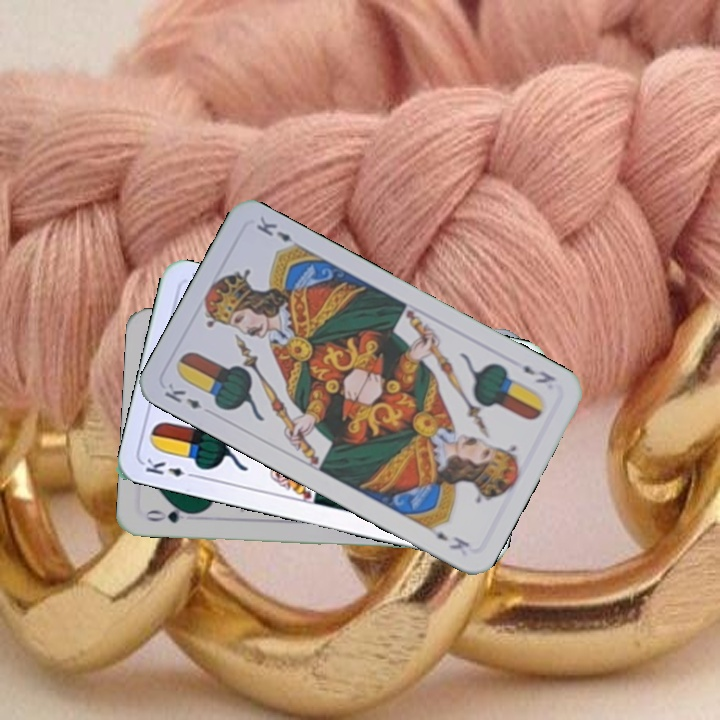EK: (141, 454, 200, 481), (160, 379, 204, 412), (518, 361, 559, 387)
GO: (142, 503, 200, 526)
